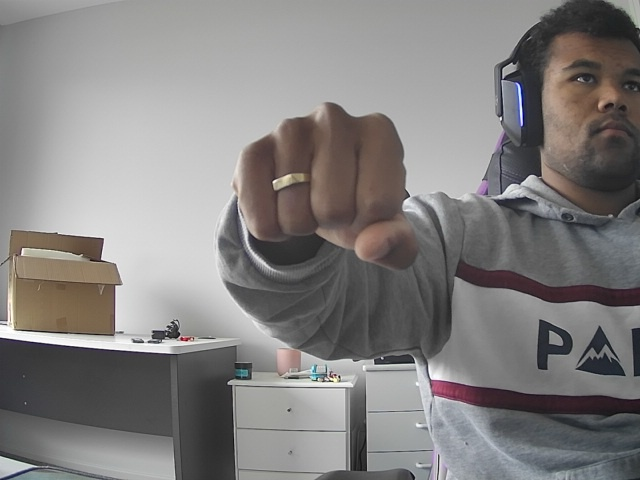Yes: (220, 91, 446, 289)
